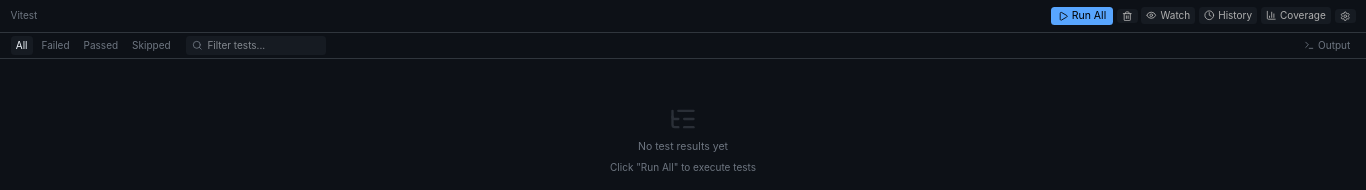
Test case: TestRunnerPanel › toggles history view off when clicked again
Click the button "History" at (1228, 16), box [1199,7,1257,24]
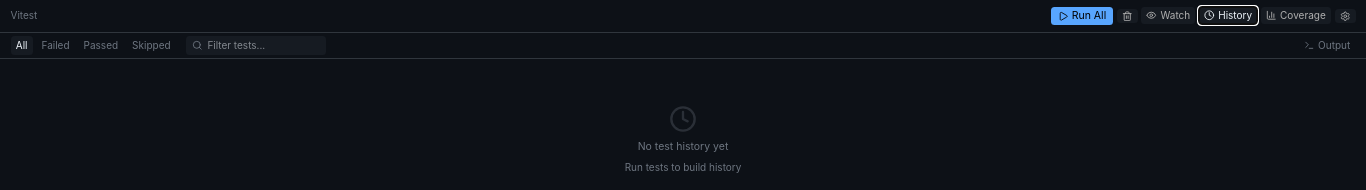
Result: the text "No test history yet" is shown at [638,140,728,154]
Click the button "History" at (1228, 16), box [1199,7,1257,24]
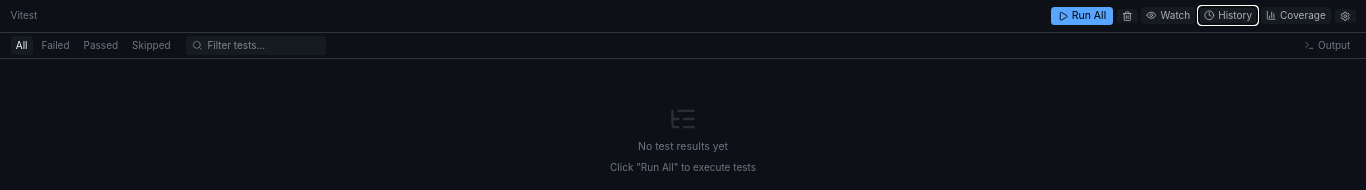
Result: the text "No test history yet" is gone
